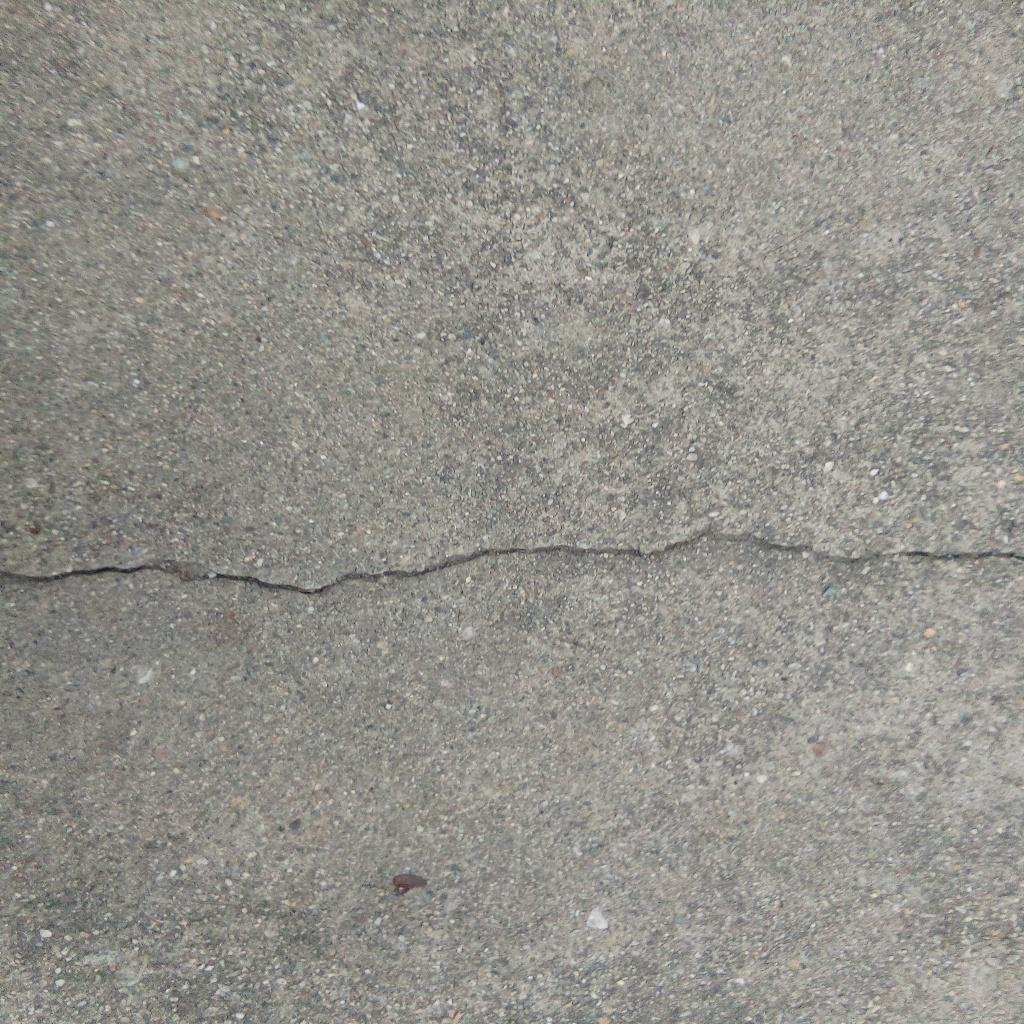Crack: (1, 527, 1024, 597)
